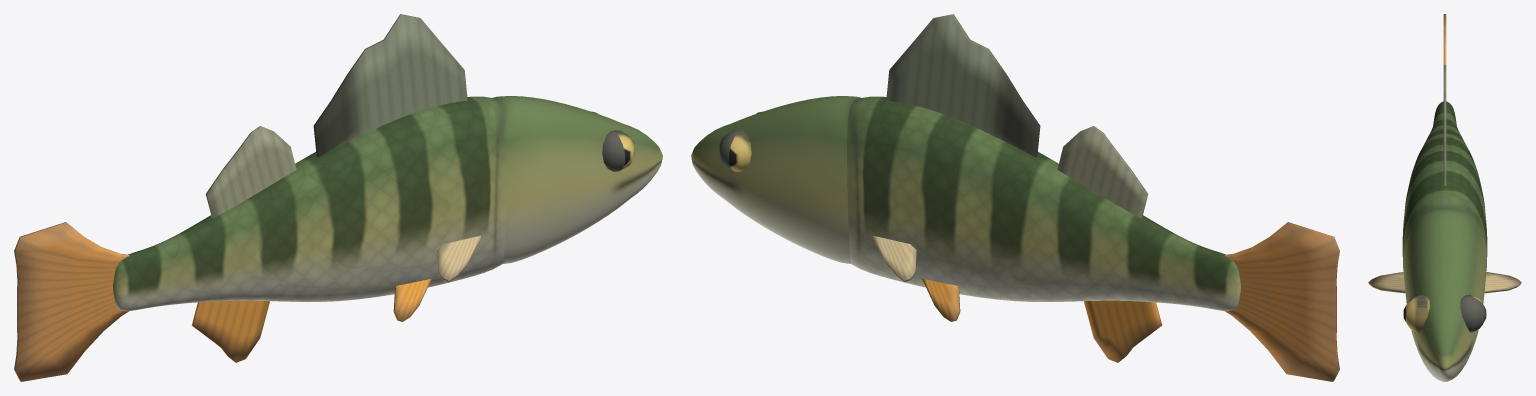
The model's file is fish_perch.fbx.
3 renders of one model, left to right at view 1: azimuth 30°, elevation 25°; view 2: azimuth 150°, elevation 25°; view 3: azimuth 270°, elevation 25°, orthographic. The views are drawn at different scales.
Visible parts, largest first — view 1: fish_perch; view 2: fish_perch; view 3: fish_perch.
Boxes of the visible parts, left/top/right/bottom form: fish_perch: left=14, top=14, right=662, bottom=381; fish_perch: left=691, top=14, right=1339, bottom=381; fish_perch: left=1368, top=14, right=1521, bottom=381.
Size of the model in its own units: 24.84 by 11.26 by 5.61.
Materials: 1 (1 with a texture image).
